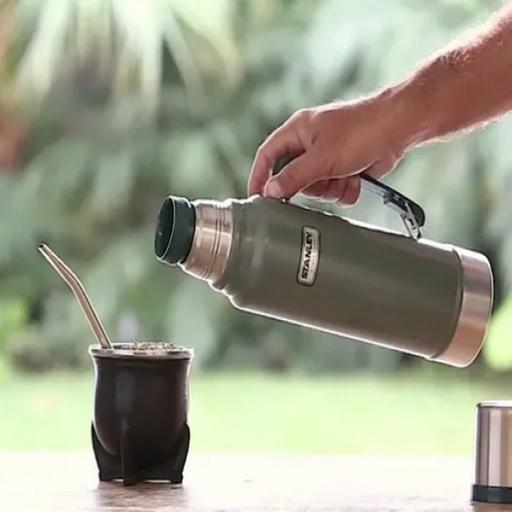mate: (89, 342, 193, 485)
termo: (155, 177, 493, 367)
